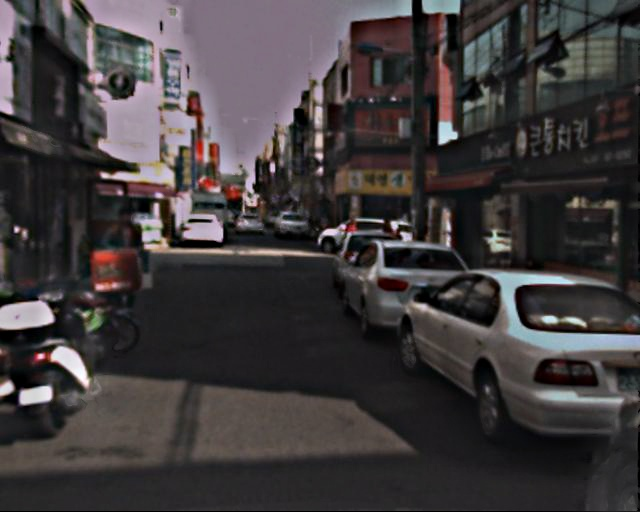person: (101, 206, 155, 322), (381, 215, 397, 254), (346, 219, 359, 250)
